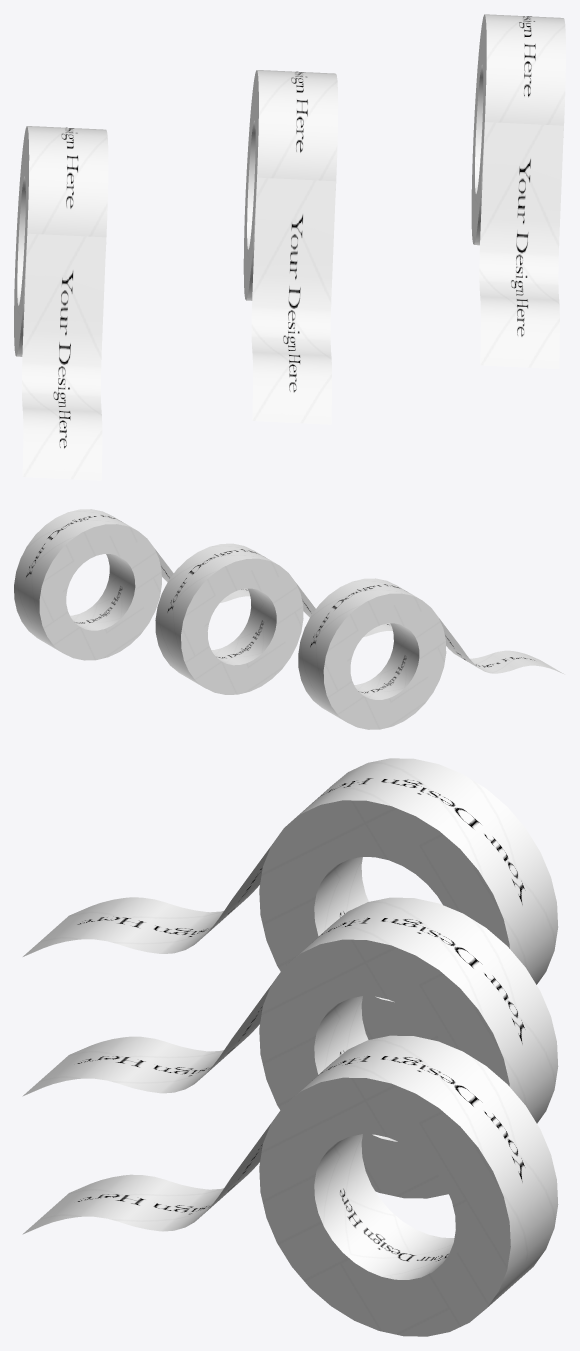
The model's file is Box_Tape A-5.glb.
3 views of the same model, one above another, from view 1: azimuth 30°, elevation 25°; view 2: azimuth 150°, elevation 25°; view 3: azimuth 270°, elevation 25° (orthographic). The views are drawn at different scales.
Visible parts, largest first — view 1: Tape_roll.001, Tape_roll.002, Tape_roll; view 2: Tape_roll.002, Tape_roll.001, Tape_roll; view 3: Tape_roll.001, Tape_roll, Tape_roll.002.
Part boxes in pixels (x1,y1,x2,y2): Tape_roll.001: (471, 14, 565, 368); Tape_roll.002: (14, 126, 108, 480); Tape_roll: (243, 70, 338, 424); Tape_roll.002: (298, 578, 564, 729); Tape_roll.001: (14, 509, 249, 660); Tape_roll: (155, 543, 392, 694); Tape_roll.001: (22, 1035, 558, 1336); Tape_roll: (22, 897, 558, 1198); Tape_roll.002: (23, 758, 558, 1042).
Bounding box in the file's own units: 0.2097 × 0.06 × 0.1102.
1 material, 1 textured.
